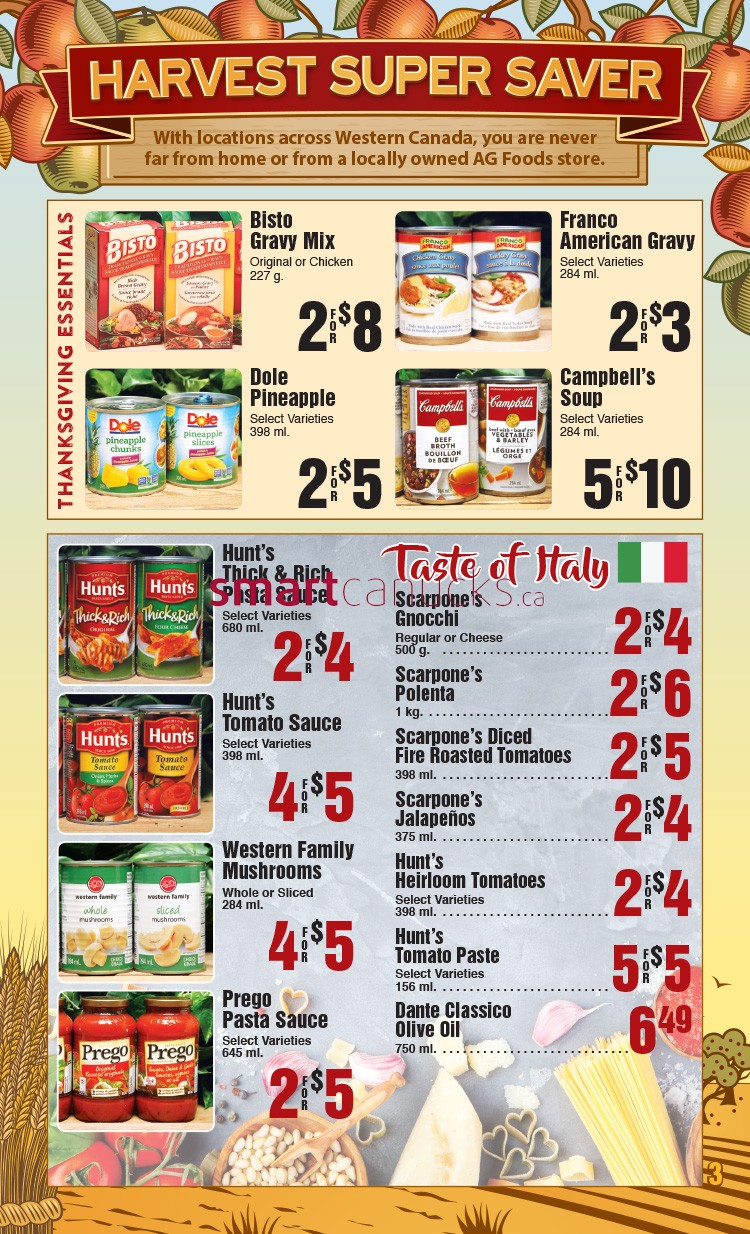ad_block: (81, 202, 385, 357)
